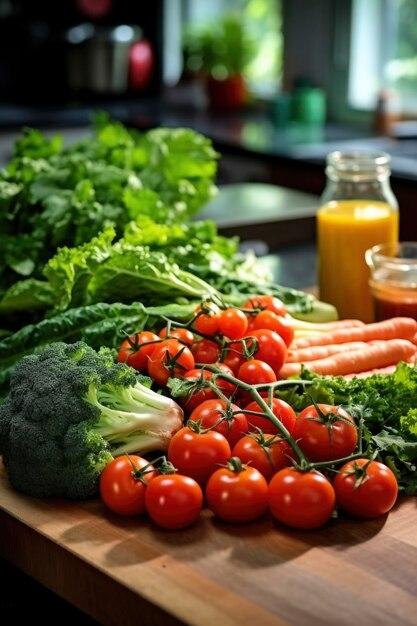broccoli: (0, 338, 186, 500)
brocolli: (0, 327, 189, 491)
carrot: (283, 301, 417, 371)
spinach: (11, 119, 275, 310)
tomato: (205, 328, 398, 554)
